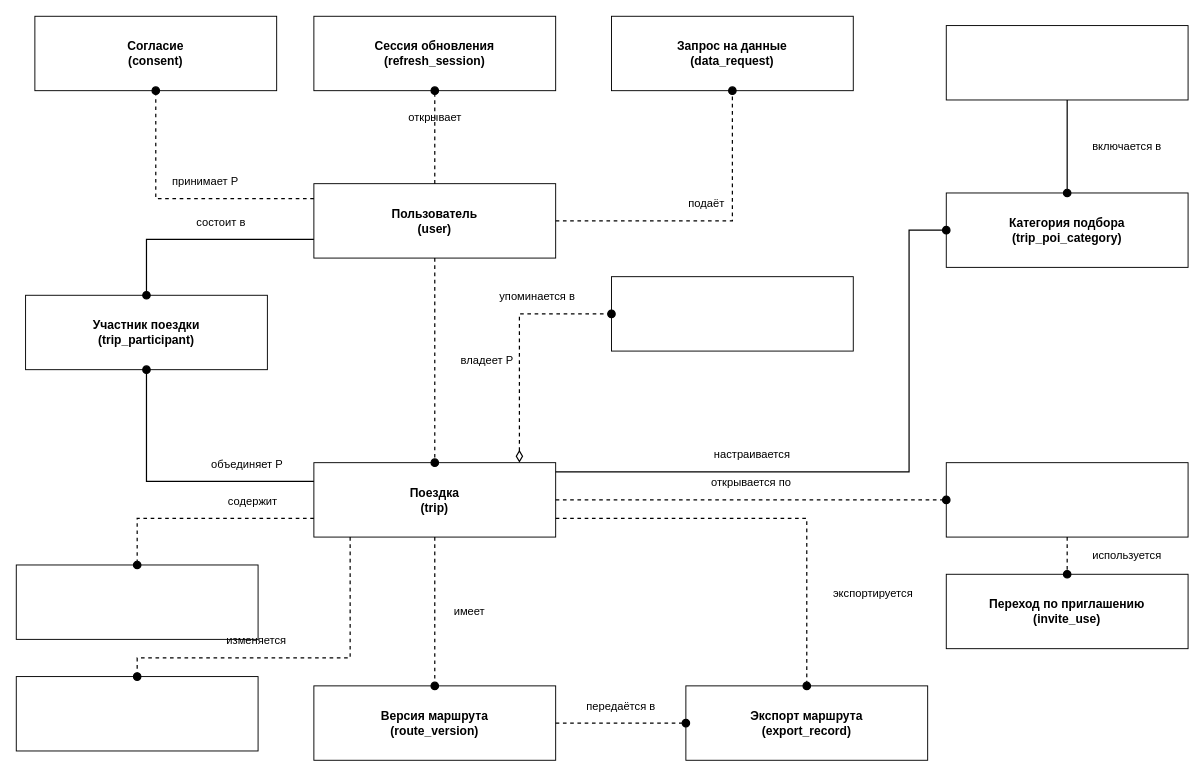
Some shapes in this 1204 by 777 pixel diagram are drawn without their labels. Here are the shapes that lost their labels. From the top down, the box of each, then its label:
(945, 25, 1188, 100): Категория точек интереса (poi_category)
(611, 276, 853, 351): Уведомление (notification)
(945, 462, 1188, 537): Ссылка-приглашение (invite_link)
(15, 564, 258, 639): Точка маршрута (route_point)
(15, 676, 258, 751): Событие изменения (edit_event)
